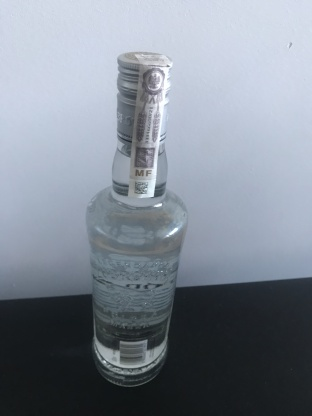nakretka: (112, 45, 175, 149)
